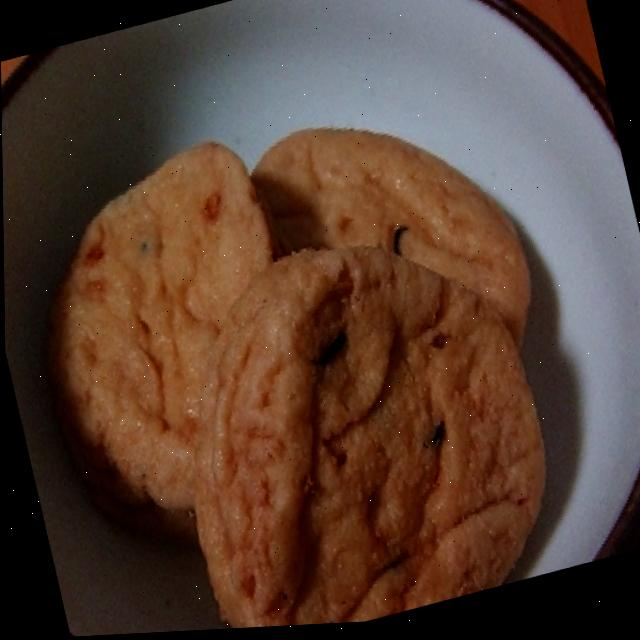熟制海鲜: (0, 8, 588, 640)
